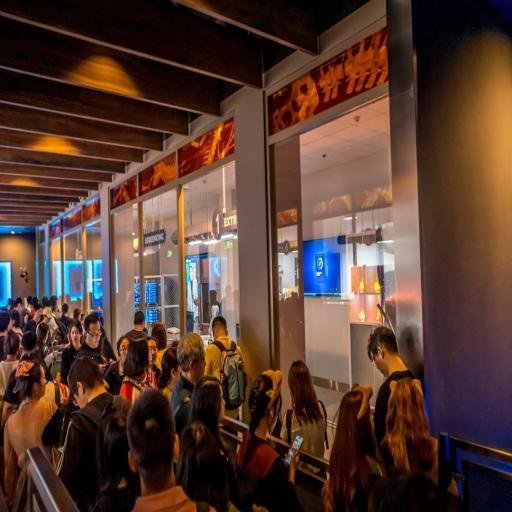face: (193, 350, 205, 381), (86, 322, 100, 348), (167, 366, 180, 390), (119, 338, 129, 365), (148, 339, 157, 367), (218, 387, 225, 421), (71, 326, 80, 347)
